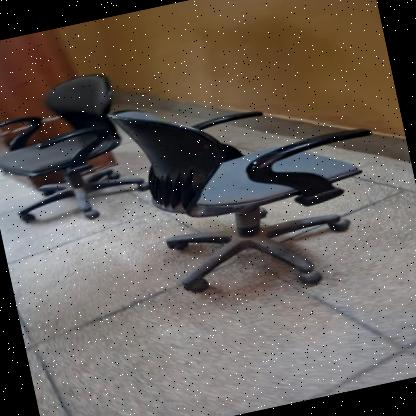chair: (95, 48, 404, 326), (0, 57, 159, 241)
